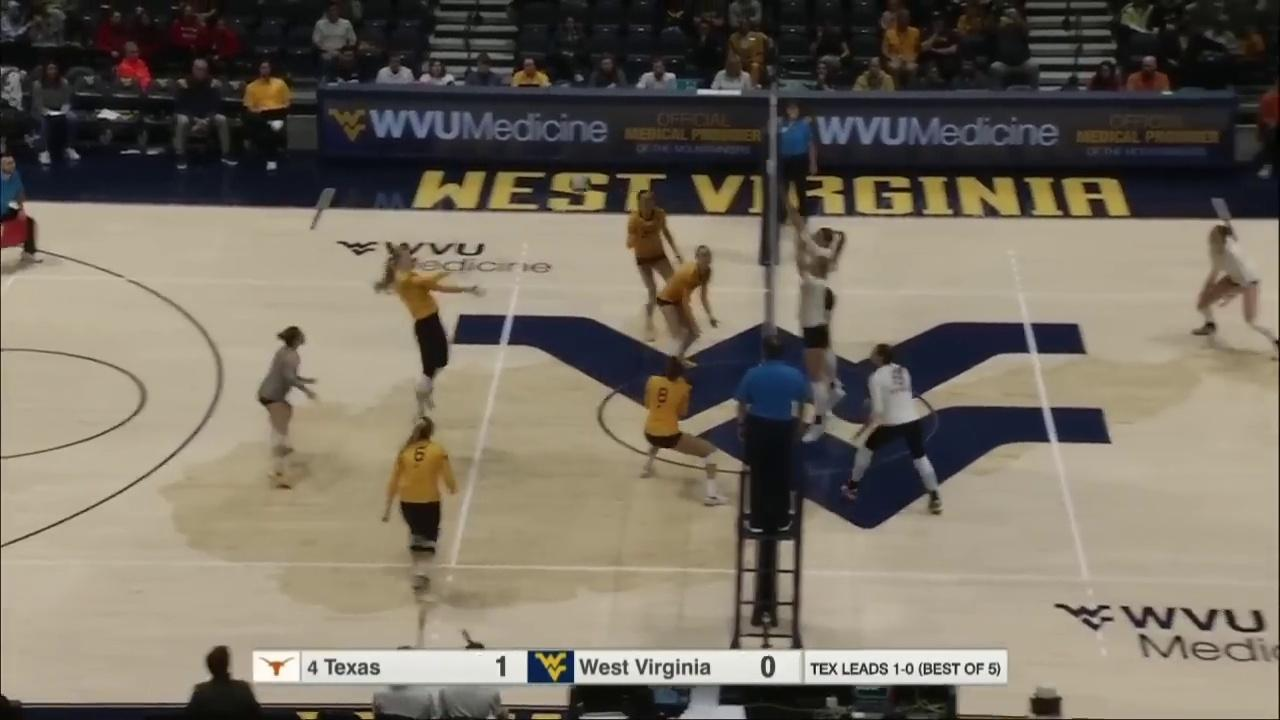player: (387, 247, 485, 425), (841, 344, 944, 511), (379, 417, 458, 605), (639, 357, 731, 505), (1193, 223, 1280, 355), (795, 239, 845, 441), (257, 327, 318, 492), (653, 244, 719, 379), (797, 213, 847, 385), (629, 189, 687, 337)
refree: (734, 336, 811, 530), (774, 103, 819, 228), (0, 149, 44, 267)
